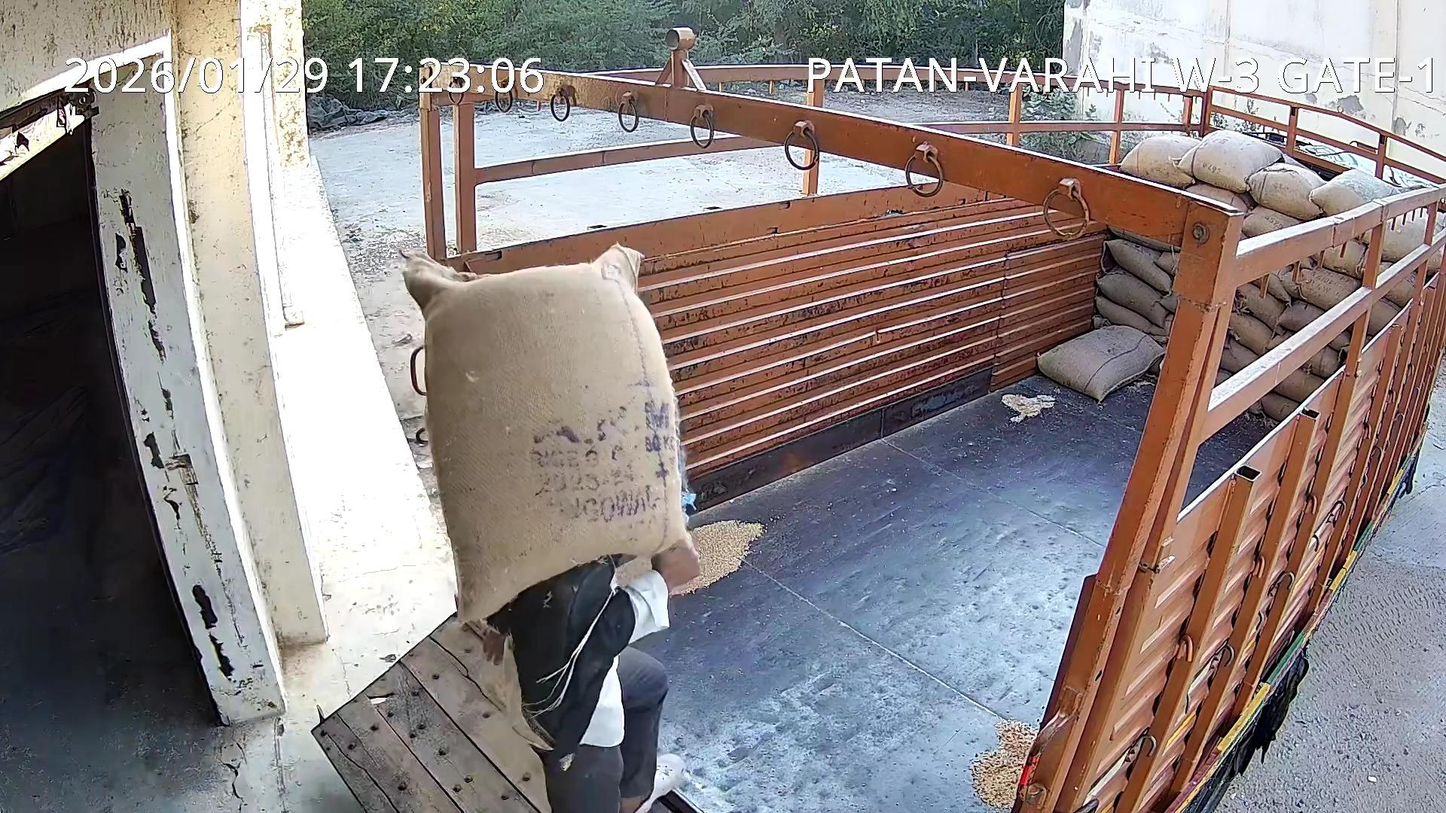Sack: (404, 245, 685, 623)
